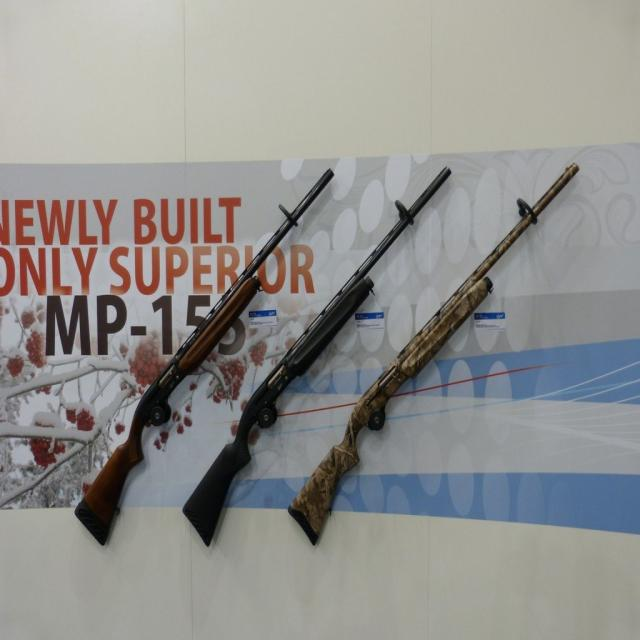firearm: (288, 160, 579, 544), (182, 165, 452, 545), (76, 168, 334, 546)
